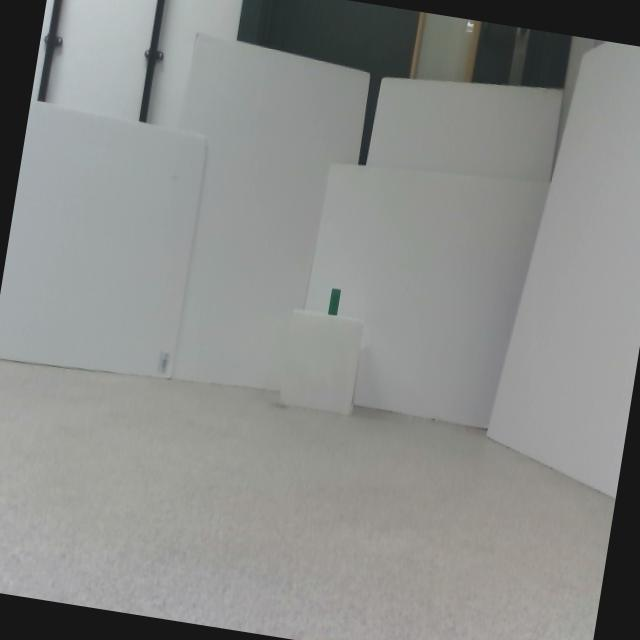green_cylinder: (328, 288, 342, 316)
